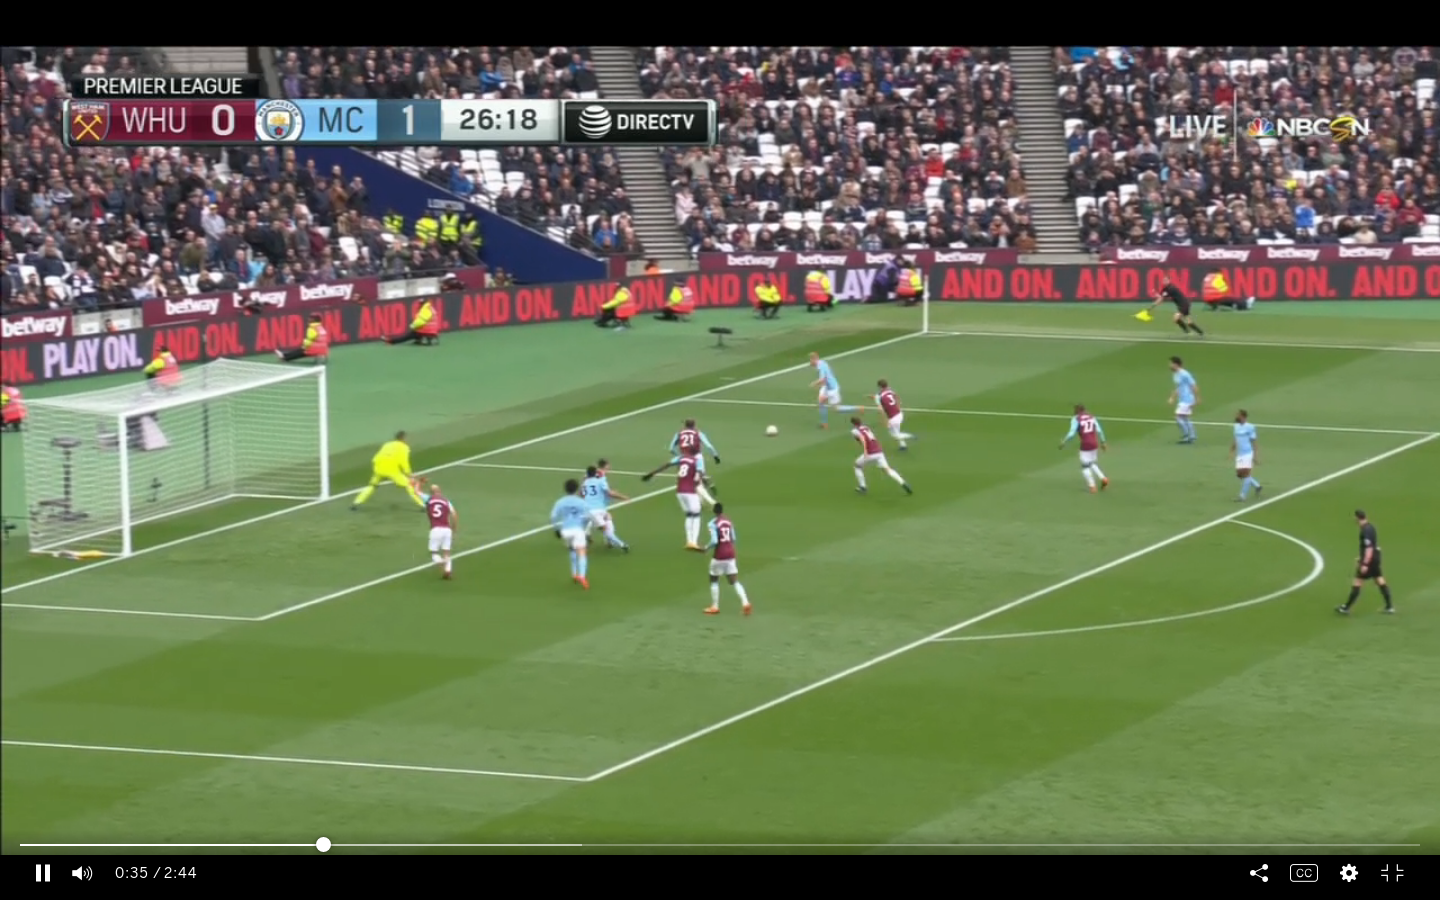referee: (1330, 500, 1405, 622), (1130, 274, 1219, 342)
soccer player: (342, 426, 433, 516), (642, 452, 721, 556), (695, 503, 758, 623), (533, 477, 602, 585), (1055, 402, 1125, 492), (848, 416, 915, 503), (576, 457, 632, 557), (421, 480, 464, 582), (1227, 408, 1272, 505), (1159, 357, 1205, 445), (804, 345, 852, 429), (875, 374, 922, 456), (672, 416, 718, 456)
soccerball: (761, 420, 784, 442)
